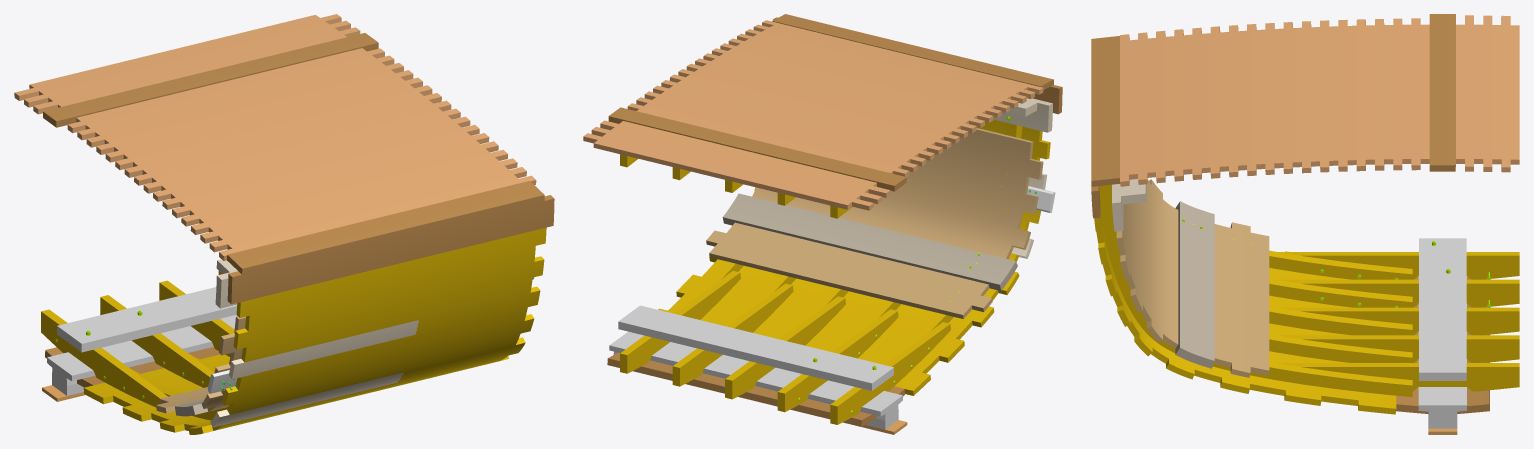
File: Hull.glb
3 renders of one model, left to right at view 1: azimuth 30°, elevation 25°; view 2: azimuth 150°, elevation 25°; view 3: azimuth 270°, elevation 25°, orthographic. The views are drawn at different scales.
Visible parts, largest first — view 1: Decking, Planking, Sheer Strake, Covering Board, Floor, Keelson, King Plank, Keel / Backbone, Ceiling, Garboard Strake, Frames; view 2: Decking, Ceiling, Planking, Floor, Bilge Stringer, Keelson, Keel / Backbone, King Plank, Covering Board, Frames, Garboard Strake, Sheer Clamp (+3 smaller); view 3: Decking, Ceiling, Floor, Frames, Planking, Keelson, Bilge Stringer, Covering Board, King Plank, Keel / Backbone, Garboard Strake, Beam Shelf (+1 smaller).
Boxes of the visible parts, <box> form: Decking: <box>14,14,536,260</box>; Planking: <box>83,227,546,434</box>; Sheer Strake: <box>227,195,554,304</box>; Covering Board: <box>227,181,544,274</box>; Floor: <box>41,271,234,407</box>; Keelson: <box>57,287,236,352</box>; King Plank: <box>43,33,378,127</box>; Keel / Backbone: <box>42,315,237,401</box>; Ceiling: <box>156,277,533,413</box>; Garboard Strake: <box>45,347,219,387</box>; Frames: <box>130,354,227,420</box>; Decking: <box>583,20,1043,210</box>; Ceiling: <box>706,128,1043,318</box>; Planking: <box>658,119,1050,395</box>; Floor: <box>620,271,950,424</box>; Bilge Stringer: <box>722,193,1017,290</box>; Keelson: <box>618,305,893,390</box>; Keel / Backbone: <box>609,331,907,434</box>; King Plank: <box>608,107,906,191</box>; Covering Board: <box>772,14,1053,89</box>; Frames: <box>674,123,1022,364</box>; Garboard Strake: <box>607,352,904,426</box>; Sheer Clamp: <box>993,98,1052,132</box>; Decking: <box>1120,15,1519,186</box>; Ceiling: <box>1116,179,1269,377</box>; Floor: <box>1277,252,1519,391</box>; Frames: <box>1099,184,1412,397</box>; Planking: <box>1094,204,1396,414</box>; Keelson: <box>1419,238,1466,380</box>; Bilge Stringer: <box>1175,201,1214,368</box>; Covering Board: <box>1091,36,1120,186</box>; King Plank: <box>1429,14,1455,171</box>; Keel / Backbone: <box>1418,276,1466,434</box>; Garboard Strake: <box>1396,276,1489,413</box>; Beam Shelf: <box>1121,179,1146,204</box>.
Bounding box in the file's own units: 6.38 × 5.17 × 7.45.
